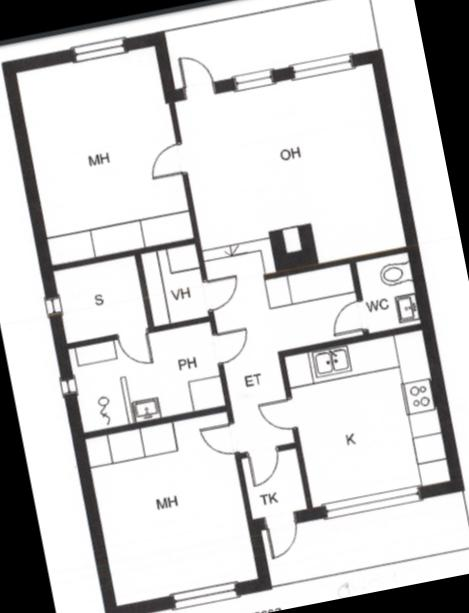door: (257, 504, 306, 560), (174, 48, 220, 102), (112, 324, 158, 372), (208, 322, 254, 366), (143, 138, 189, 182), (323, 296, 370, 339), (253, 393, 299, 436), (194, 417, 239, 459), (198, 271, 241, 310), (244, 441, 282, 484)
window: (314, 478, 430, 528), (158, 573, 246, 613), (281, 47, 362, 85), (61, 32, 134, 67), (223, 62, 282, 98), (51, 364, 82, 407), (37, 288, 67, 320)
